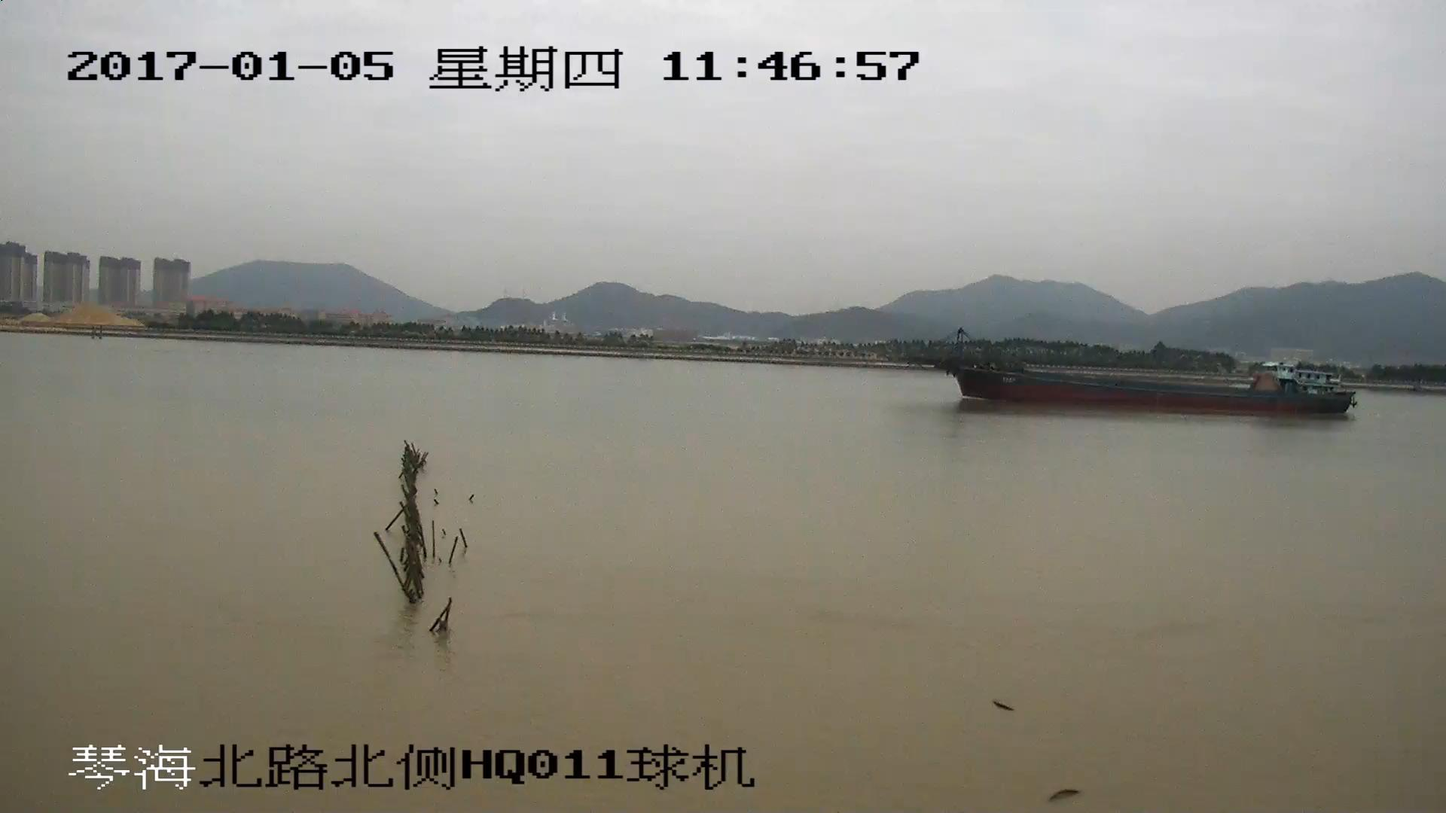bulk cargo carrier: (910, 329, 1357, 416)
